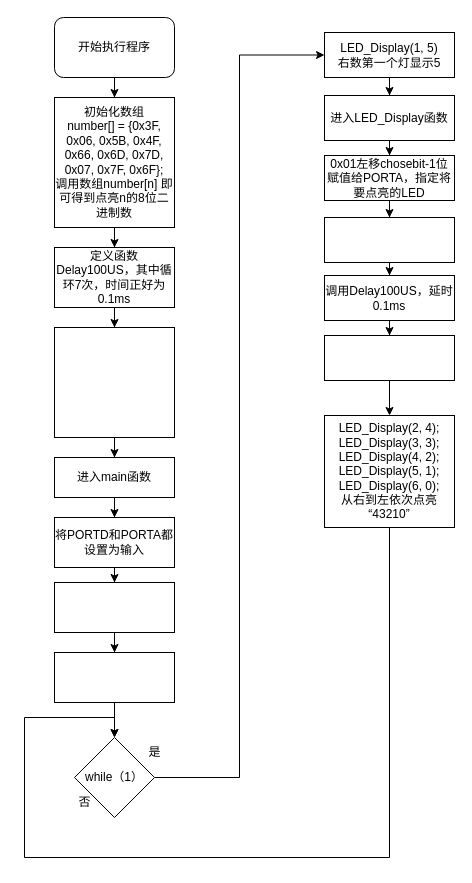
Image size: 472x883. Some labels were removed from this diagram. Here are the shapes that lost their labels. From the top down, the box of each, then its label:
(324, 216, 454, 262): PORTD =number[wdata]指定将要显示的数字
(324, 334, 454, 380): PORTA置为零，灭灯
(54, 326, 174, 438): 定义函数LED_Display，有两个参数，第一个参数chosebit用于指定点亮某个LED，第二个参数wdata指定显示的数字
(54, 582, 174, 632): 将PORTD初始化为0x00即不显示任何数字
(54, 652, 174, 702): 将PORTA初始化为0x00即没有灯亮
